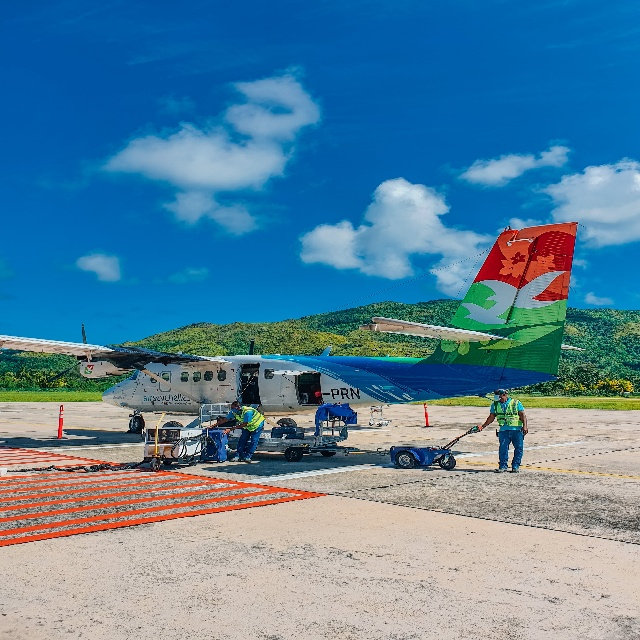Mascara: (493, 394, 503, 401), (231, 407, 239, 412)
Sin_guantes: (520, 426, 528, 436), (221, 427, 231, 435), (204, 425, 212, 429)
